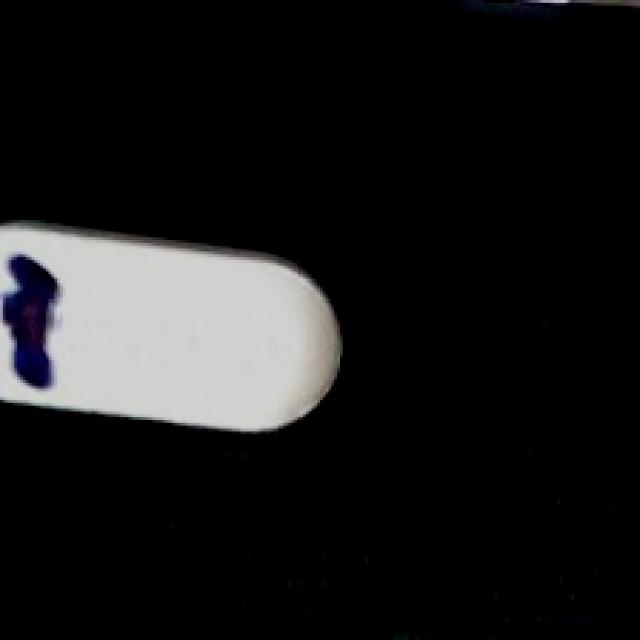defected: (0, 222, 346, 433)
